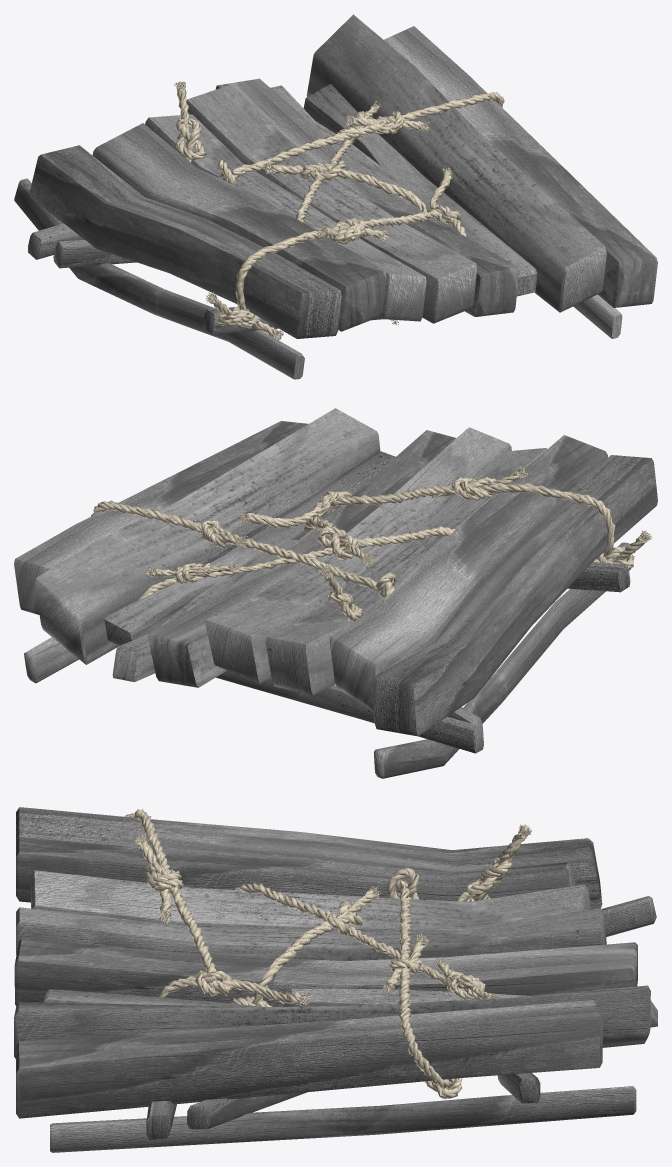
File: raft.fbx
The picture shows the model from 3 angles, top to bottom: view 1: azimuth 30°, elevation 25°; view 2: azimuth 150°, elevation 25°; view 3: azimuth 270°, elevation 25°; orthographic projection. The views are drawn at different scales.
Parts seen in each view (by area): view 1: Body; view 2: Body; view 3: Body.
Part boxes in pixels (x1,y1,x2,y2): Body: (14,14,657,379); Body: (14,408,657,778); Body: (14,807,657,1152).
Bounding box in the file's own units: 129 × 47.45 × 141.
Materials: 2 (2 with a texture image).
